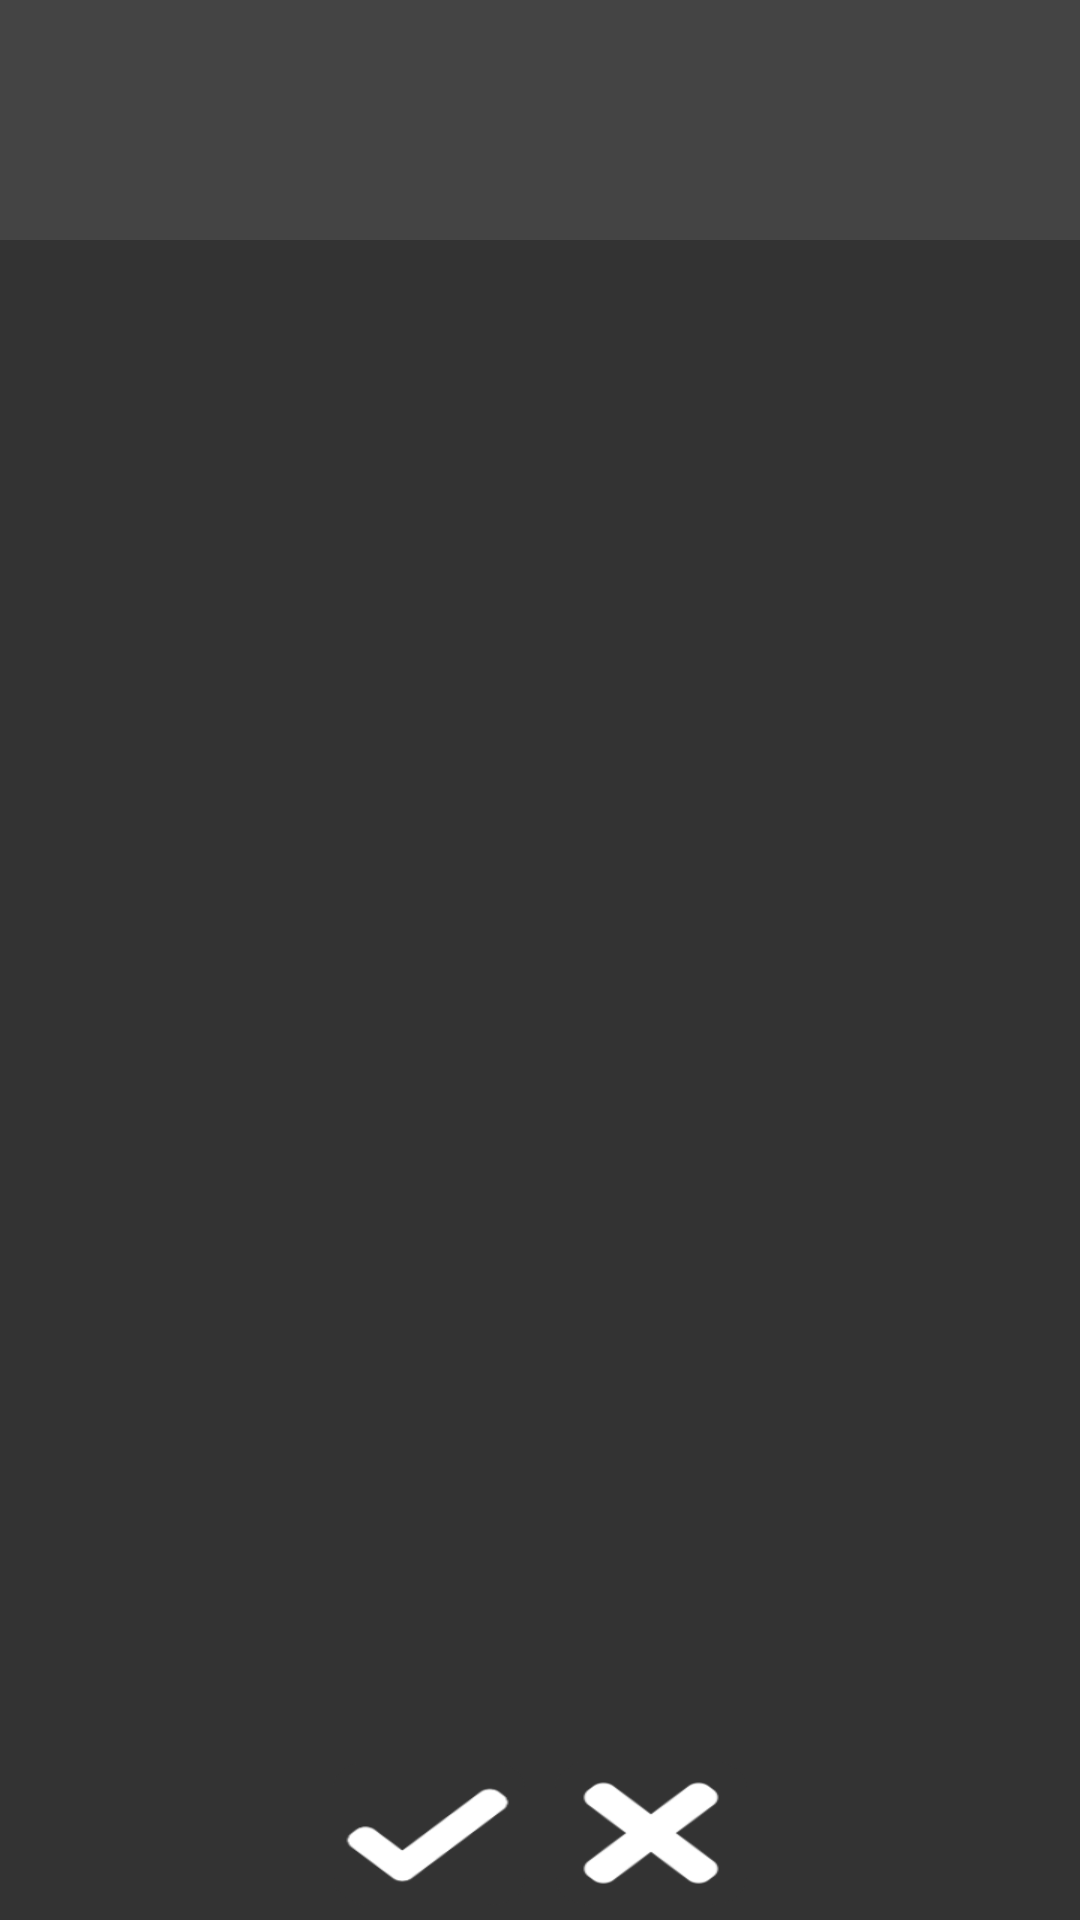

Screen size 1080*1920. Icon name, then its center in pixels as point (x, y):
accept unpressed: point (427, 1835)
cancel unpressed: point (651, 1833)
